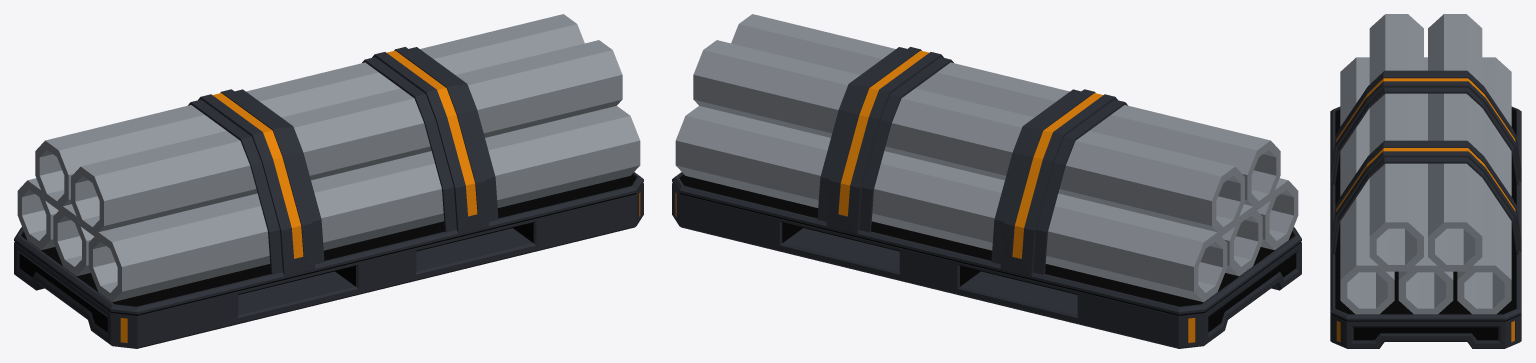
File: SM_Tube_Bundle.fbx
The picture shows the model from 3 angles, left to right: view 1: azimuth 30°, elevation 25°; view 2: azimuth 150°, elevation 25°; view 3: azimuth 270°, elevation 25°; orthographic projection. The views are drawn at different scales.
Parts seen in each view (by area): view 1: SM_Tube_Bundle; view 2: SM_Tube_Bundle; view 3: SM_Tube_Bundle.
Boxes of the visible parts, x1,y1,x2,y2 form: SM_Tube_Bundle: (14,14,643,348); SM_Tube_Bundle: (672,14,1301,348); SM_Tube_Bundle: (1330,14,1521,348).
Bounding box in the file's own units: 65 × 18.17 × 24.5.
